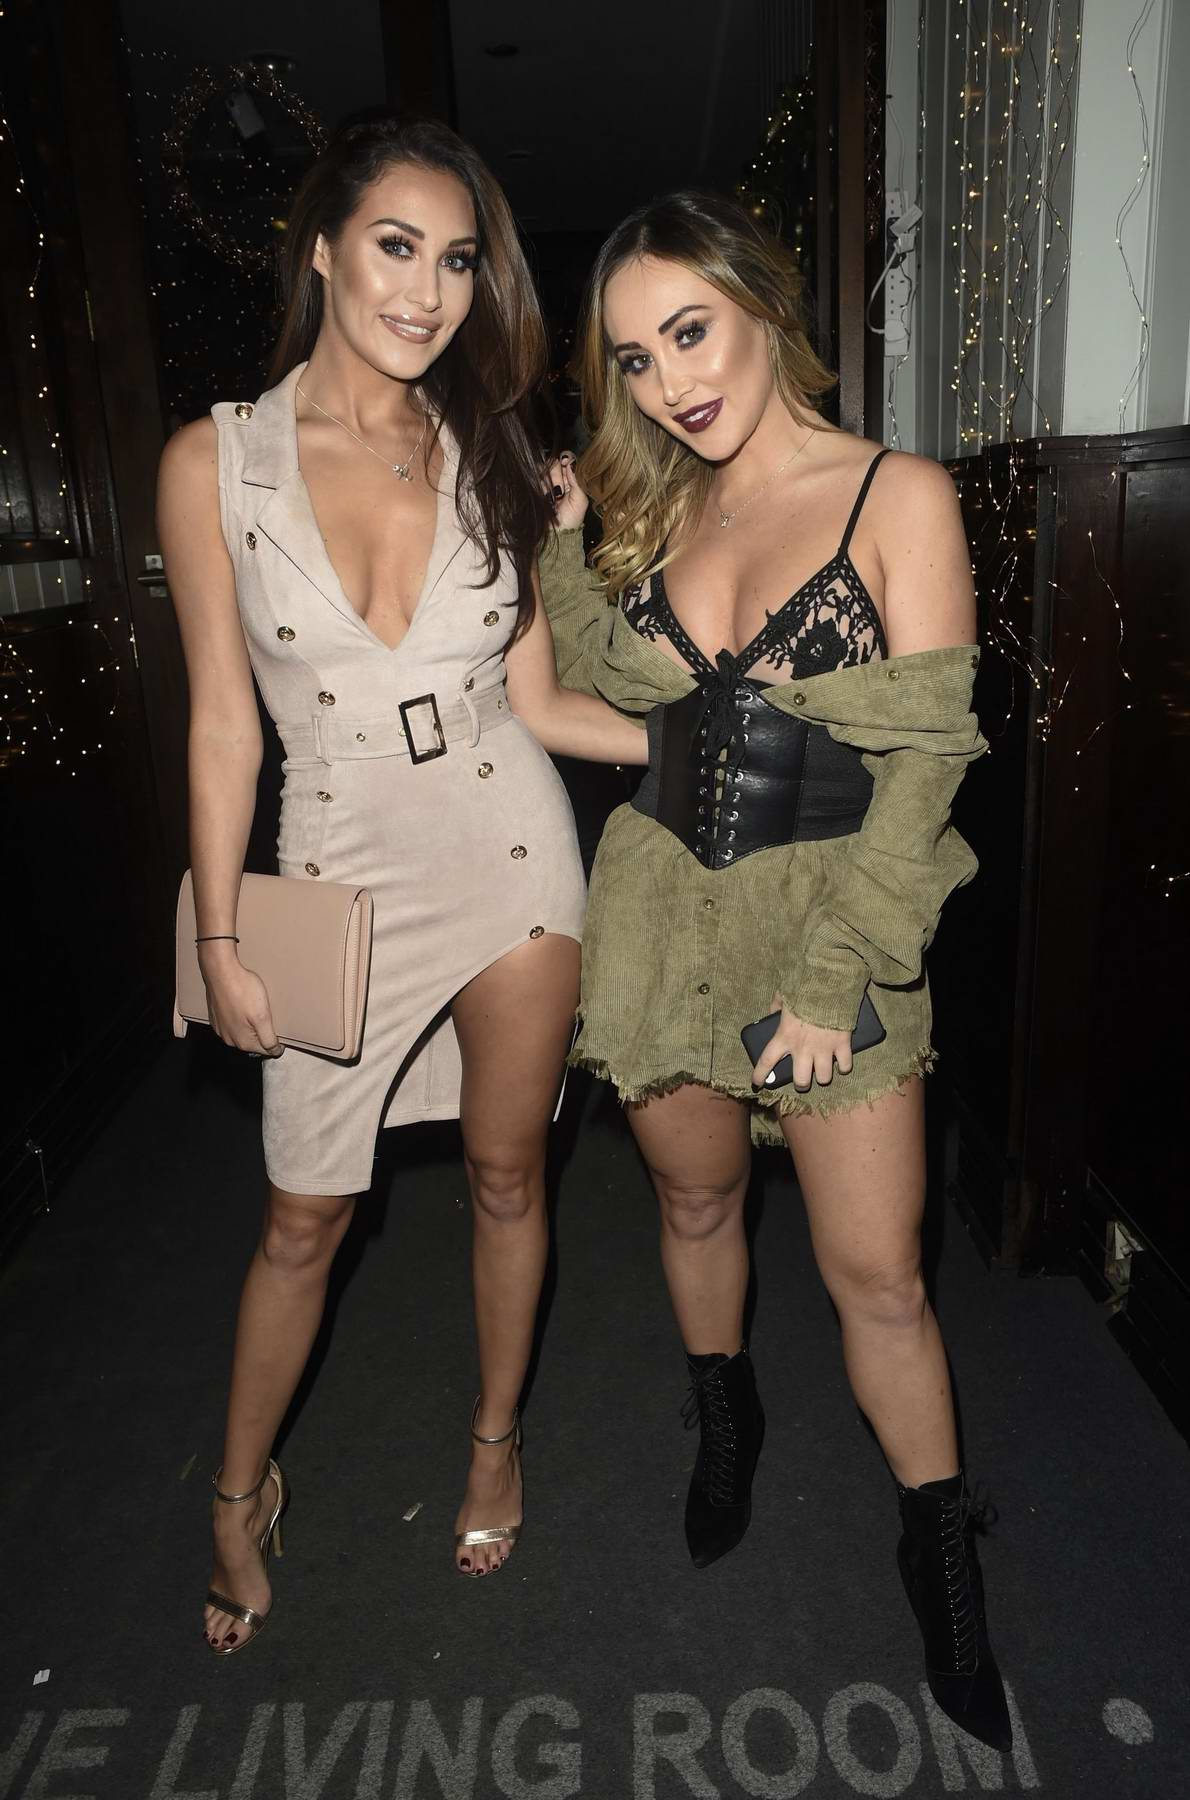Person: (552, 179, 1052, 1758), (140, 106, 617, 1667)
